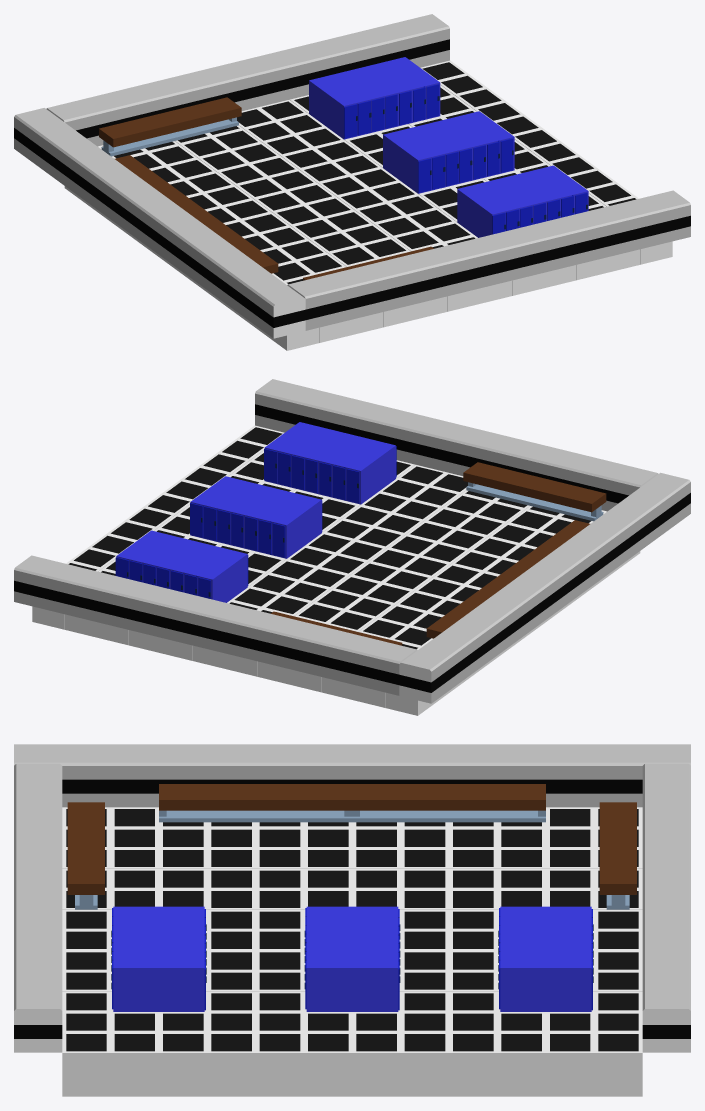
Rendered from closetsMedium.fbx.
3 views of the same model, one above another, from view 1: azimuth 30°, elevation 25°; view 2: azimuth 150°, elevation 25°; view 3: azimuth 270°, elevation 25° (orthographic). The views are drawn at different scales.
Visible parts, largest first — view 1: Cube.191, Cube.188, Cube.167, Cube.169, Cube.007, Cube.190, Cube.189, Cube.186, Cube, Cube.001, Cube.013, Cube.010 (+107 smaller); view 2: Cube.007, Cube.189, Cube.164, Cube.190, Cube.169, Cube.191, Cube.188, Cube.187, Cube.173, Cube.009, Cube.165, Cube.168 (+107 smaller); view 3: Cube.011, Cube.163, Cube.189, Cube.188, Cube.007, Cube.169, Cube.191, Cube.190, Cube.167, Cube.164, Cube.024, Cube.027 (+132 smaller).
Boxes of the visible parts, bbox=[...] form: Cube.191: bbox=[326, 69, 440, 139]; Cube.188: bbox=[400, 124, 514, 193]; Cube.167: bbox=[99, 97, 241, 156]; Cube.169: bbox=[474, 178, 588, 237]; Cube.007: bbox=[457, 165, 570, 234]; Cube.190: bbox=[309, 57, 422, 126]; Cube.189: bbox=[383, 111, 496, 180]; Cube.186: bbox=[255, 284, 305, 338]; Cube: bbox=[287, 276, 337, 330]; Cube.001: bbox=[481, 229, 530, 283]; Cube.013: bbox=[609, 198, 658, 252]; Cube.010: bbox=[513, 222, 562, 275]; Cube.007: bbox=[264, 434, 378, 504]; Cube.189: bbox=[190, 489, 304, 558]; Cube.164: bbox=[463, 462, 606, 521]; Cube.190: bbox=[115, 543, 230, 602]; Cube.169: bbox=[282, 422, 396, 491]; Cube.191: bbox=[134, 530, 248, 599]; Cube.188: bbox=[208, 476, 322, 545]; Cube.187: bbox=[399, 649, 449, 703]; Cube.173: bbox=[367, 641, 417, 695]; Cube.009: bbox=[174, 594, 223, 648]; Cube.165: bbox=[46, 563, 95, 617]; Cube.168: bbox=[142, 587, 191, 640]; Cube.011: bbox=[159, 784, 352, 822]; Cube.163: bbox=[352, 784, 545, 822]; Cube.189: bbox=[352, 906, 400, 1011]; Cube.188: bbox=[304, 906, 352, 1011]; Cube.007: bbox=[159, 906, 206, 1011]; Cube.169: bbox=[111, 906, 158, 1011]; Cube.191: bbox=[498, 906, 545, 1011]; Cube.190: bbox=[546, 906, 593, 1011]; Cube.167: bbox=[599, 802, 636, 909]; Cube.164: bbox=[67, 802, 104, 909]; Cube.024: bbox=[62, 1032, 110, 1096]; Cube.027: bbox=[110, 1032, 158, 1096].
Size of the model in its own units: 2602 by 400 by 2800.
